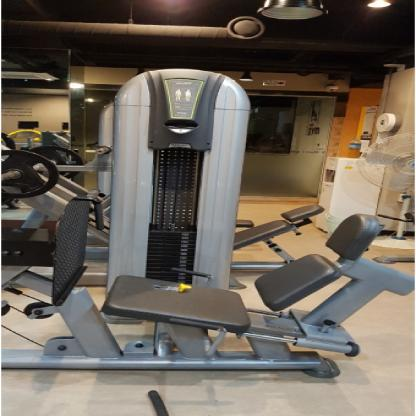leg press: (0, 67, 416, 382)
